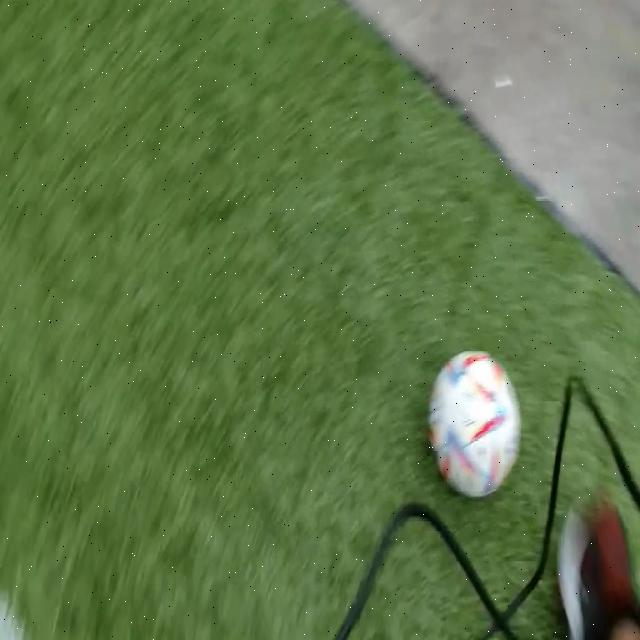ball: (427, 348, 521, 498)
